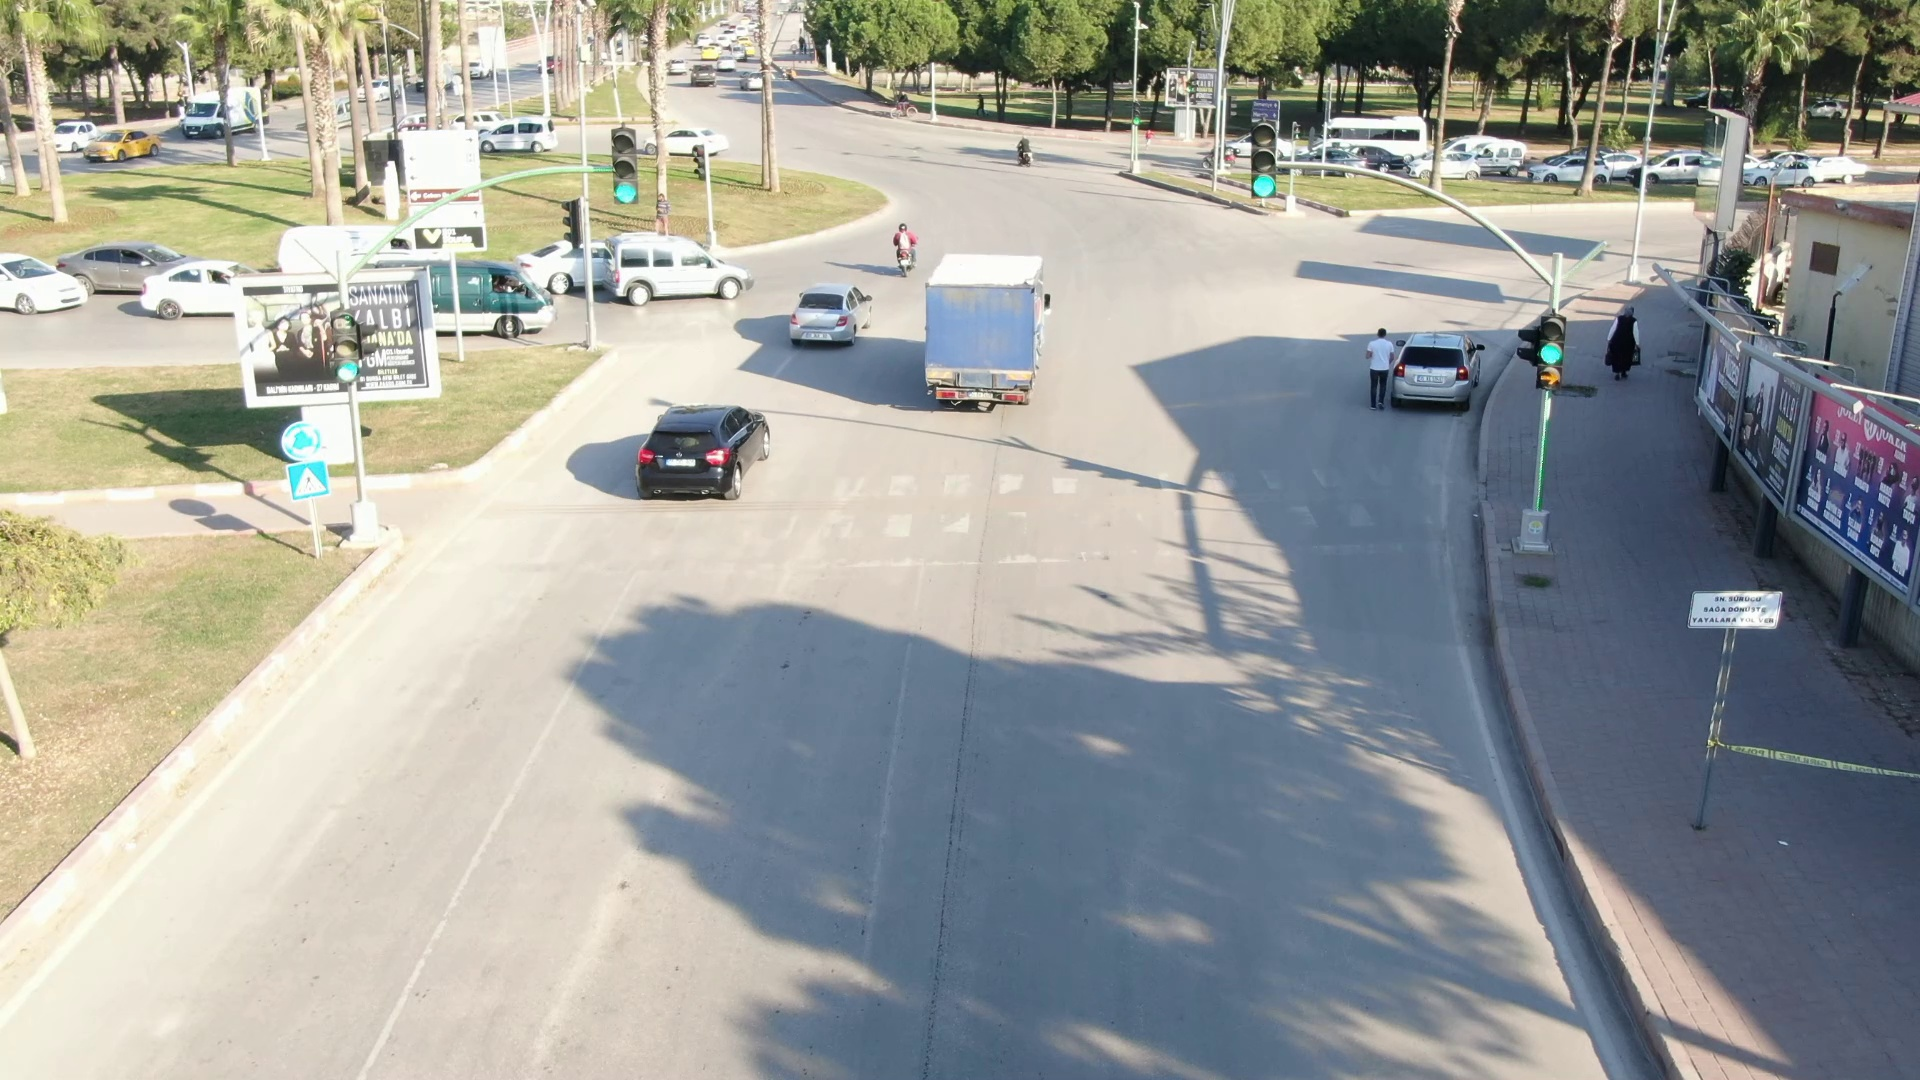car: (625, 393, 784, 509), (46, 213, 219, 313), (600, 229, 760, 313), (429, 252, 558, 348), (1391, 322, 1492, 407), (171, 78, 292, 144), (775, 277, 882, 349), (1523, 147, 1612, 201), (94, 122, 164, 172)
person: (1595, 299, 1645, 385), (1360, 320, 1396, 416)
